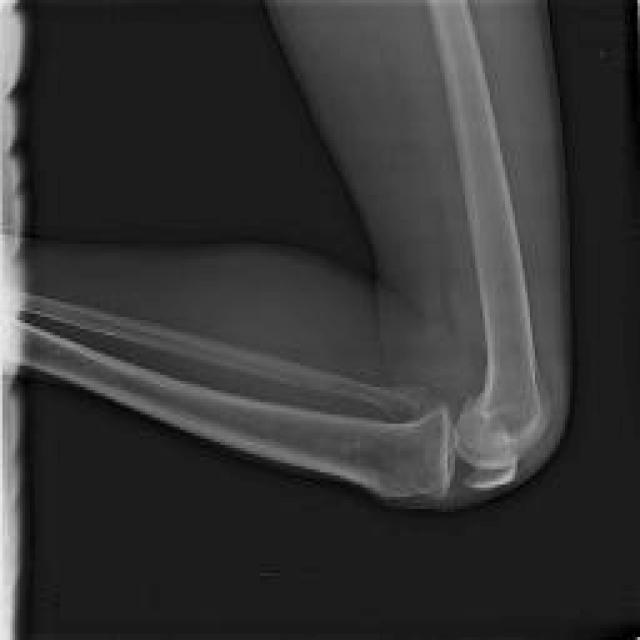normal: (8, 318, 458, 501), (7, 287, 422, 422), (426, 0, 541, 465)
